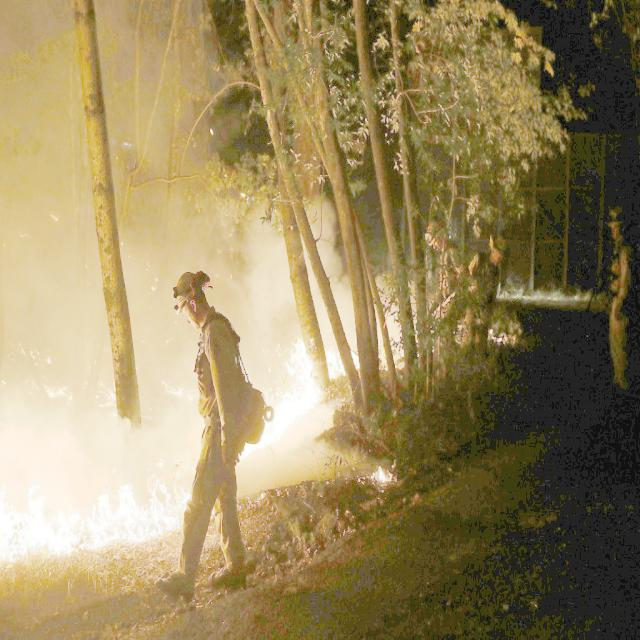api: (2, 486, 182, 559), (267, 339, 318, 454), (326, 354, 344, 374)
asap: (1, 400, 189, 491), (239, 238, 300, 347)
